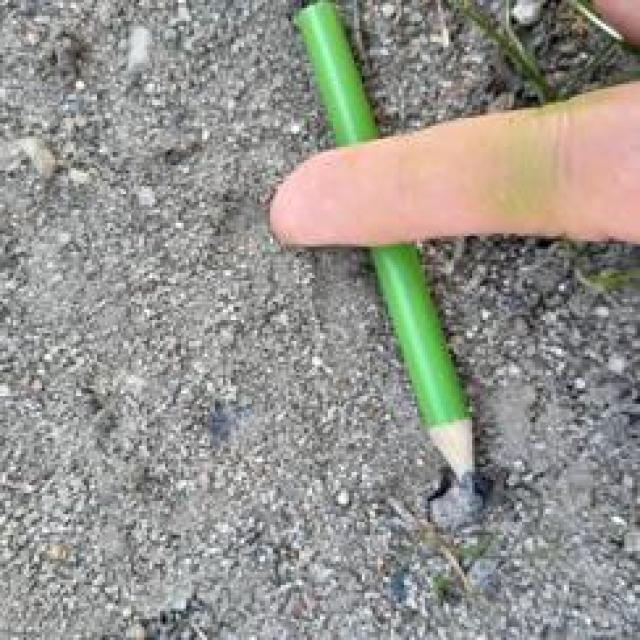pencil: (289, 0, 512, 523)
